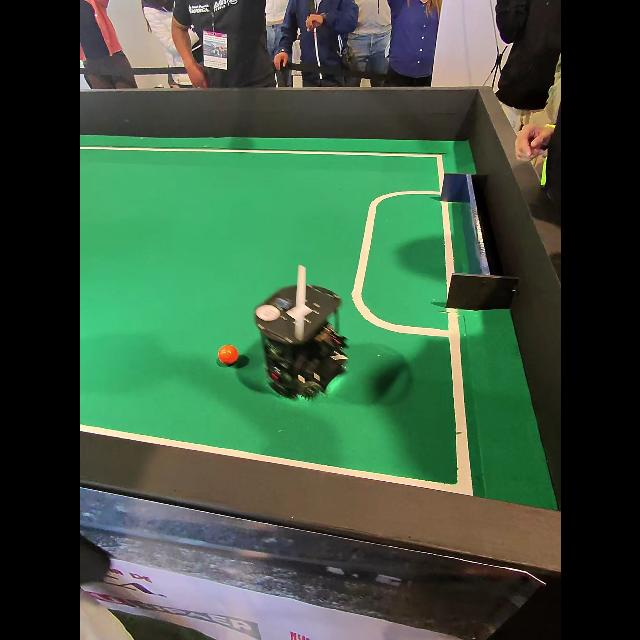ball: (218, 345, 238, 364)
goal: (440, 174, 517, 310)
robot: (254, 266, 347, 399)
